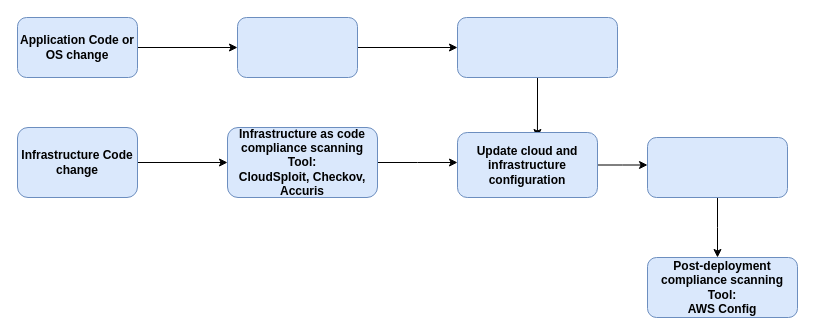
Some shapes in this 815 by 335 pixel diagram are drawn without their labels. Here are the shapes that lost their labels. From the top down, the centre of each, then its label:
At point 297,47: "Build application container or OS image".
At point 537,47: "AMI or container image scanning Tool: Clair, Anchore, Falco".
At point 717,167: "Deploy cloud configuration or application to environment".
